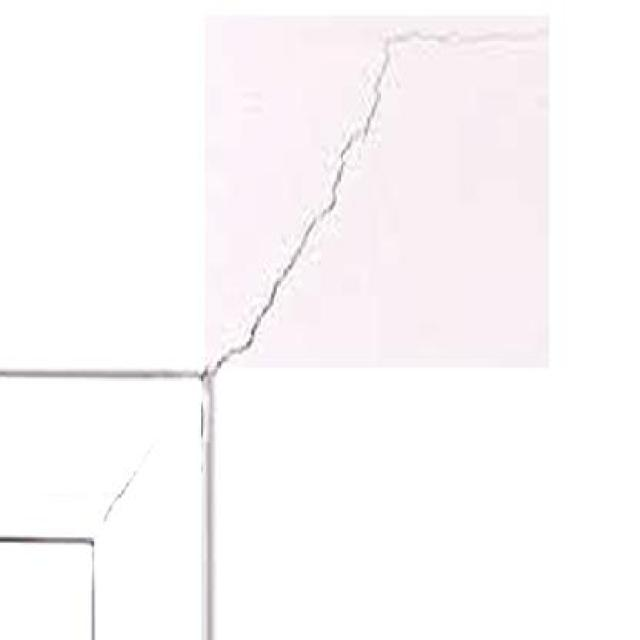Crack: (201, 90, 392, 380), (348, 23, 545, 82), (94, 416, 178, 530)
